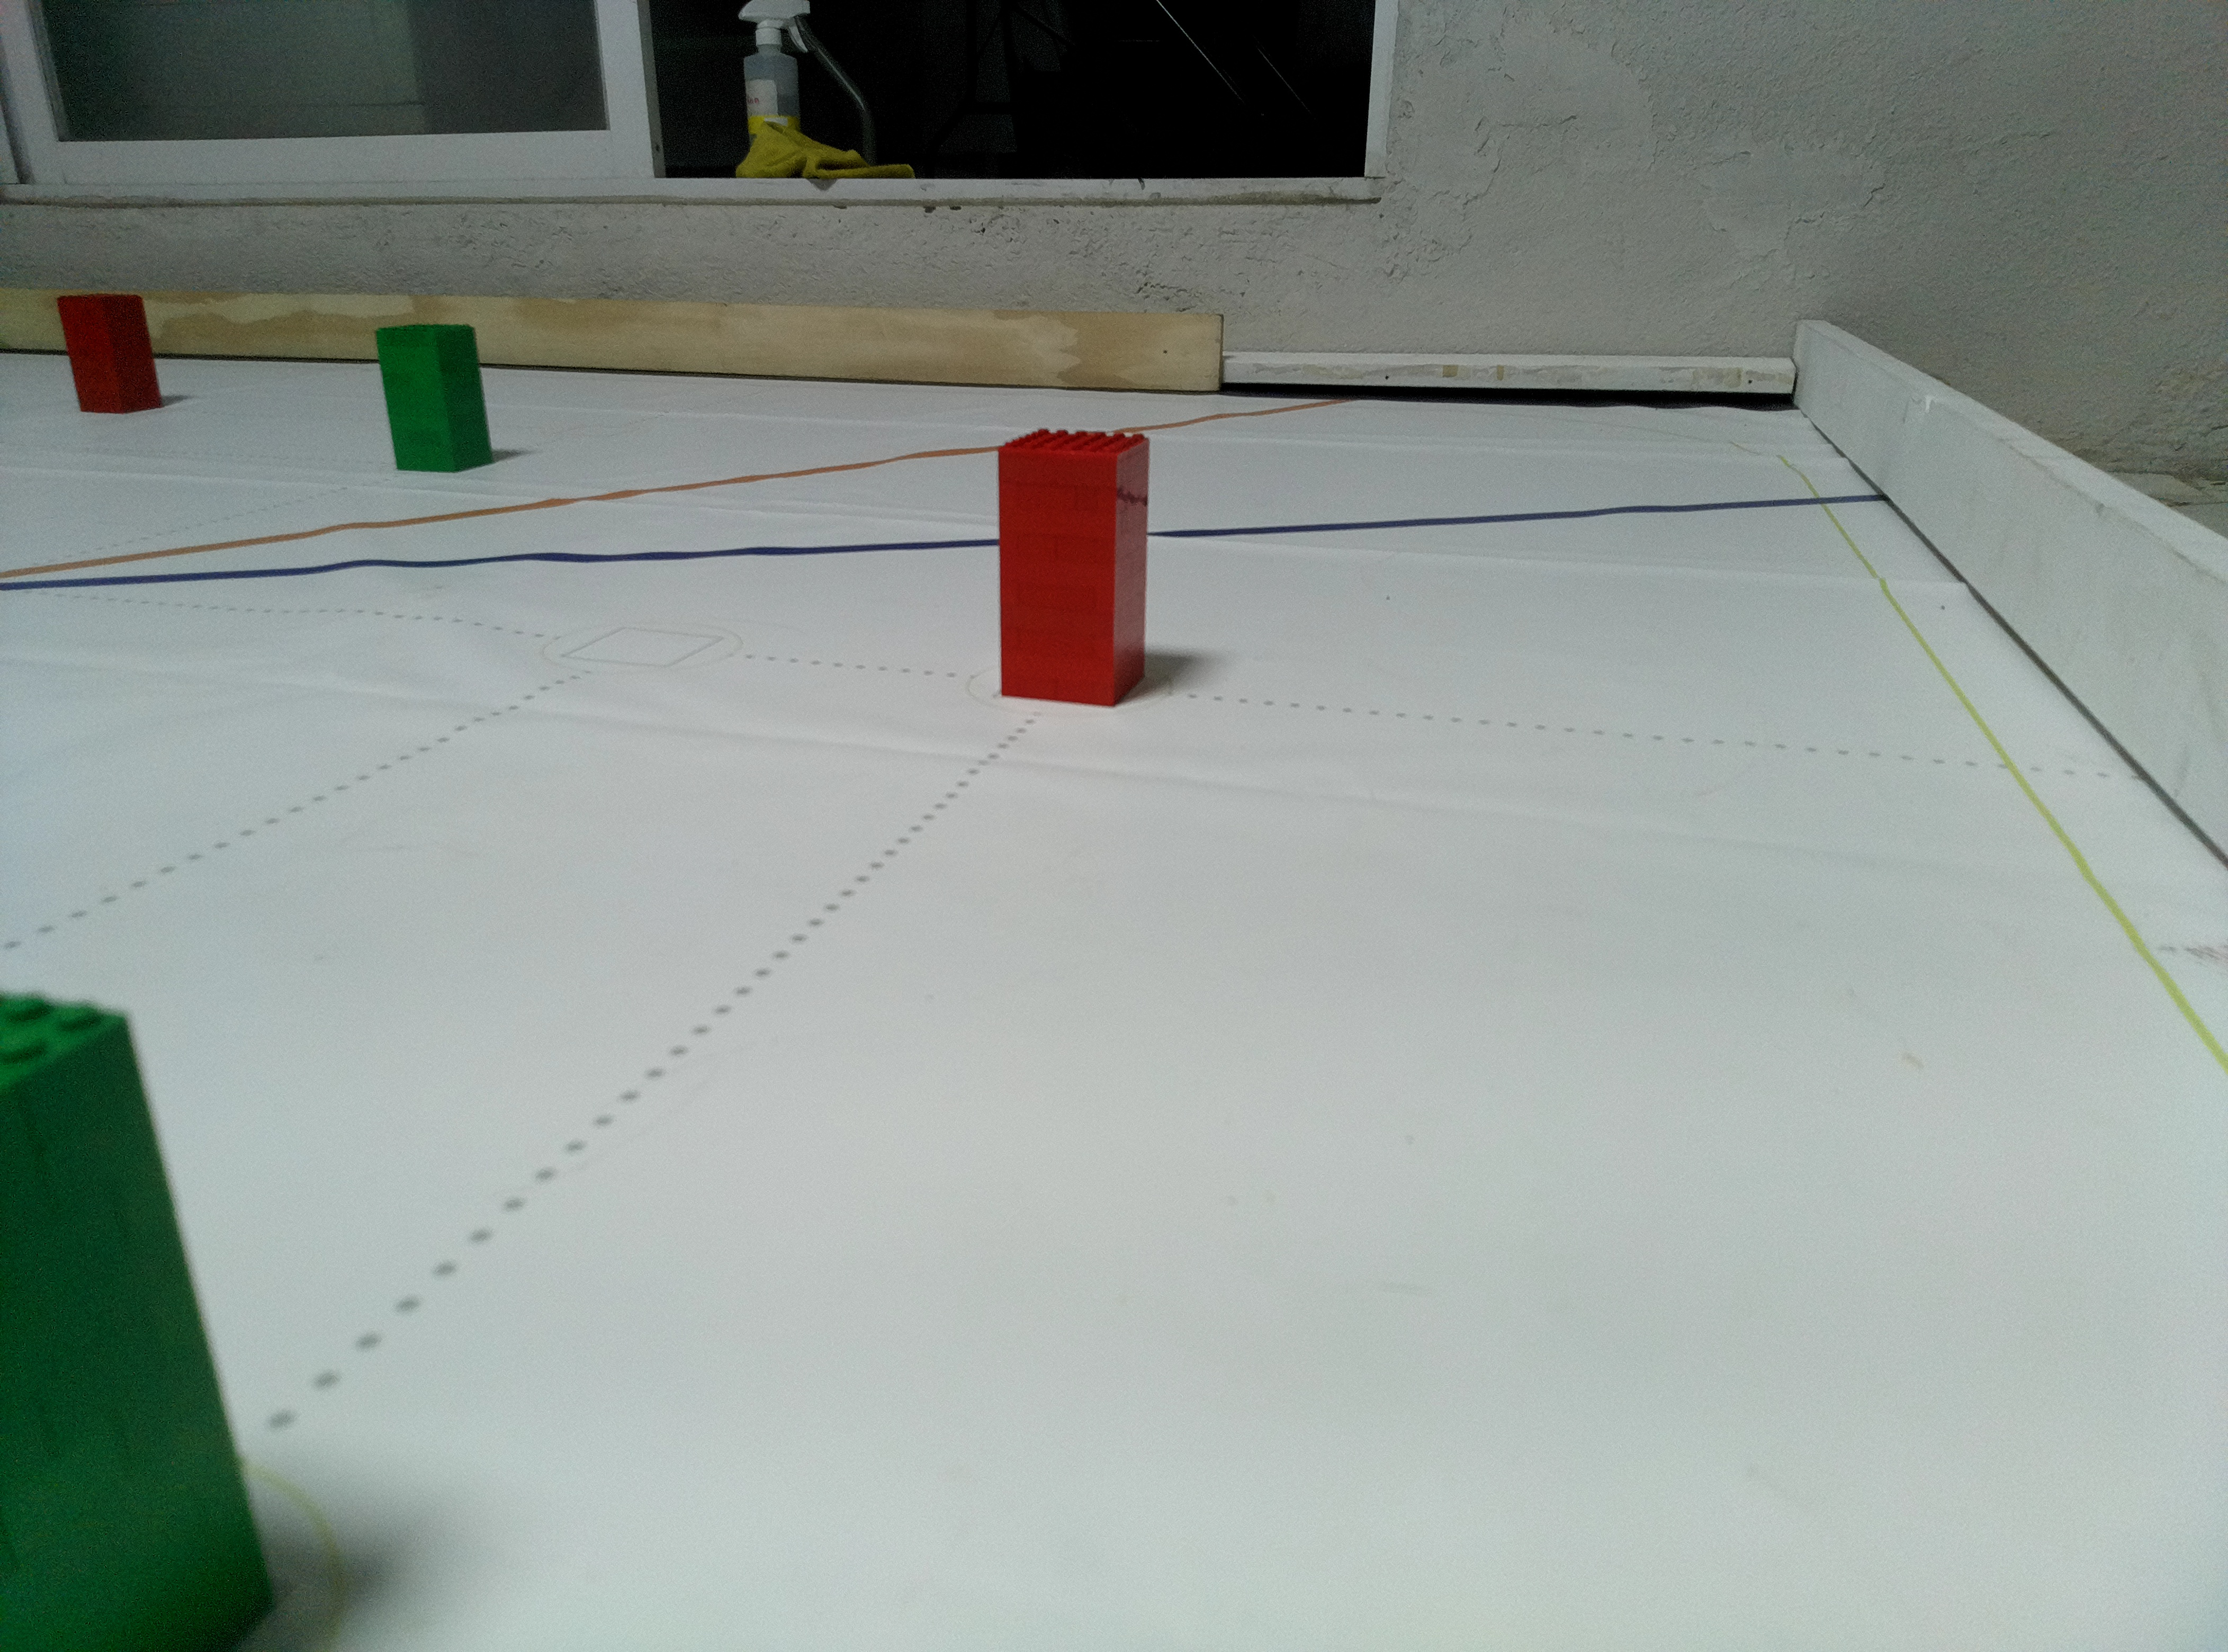greenbox: (3, 949, 297, 1652), (371, 319, 496, 474)
redbox: (993, 423, 1154, 713), (52, 292, 168, 416)
